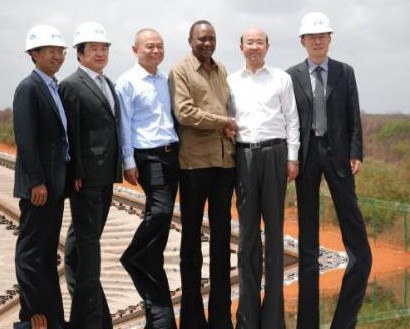Helmet: (27, 86, 75, 128), (74, 83, 117, 123), (296, 76, 331, 114), (296, 0, 332, 31), (73, 0, 118, 24), (27, 0, 76, 21)
